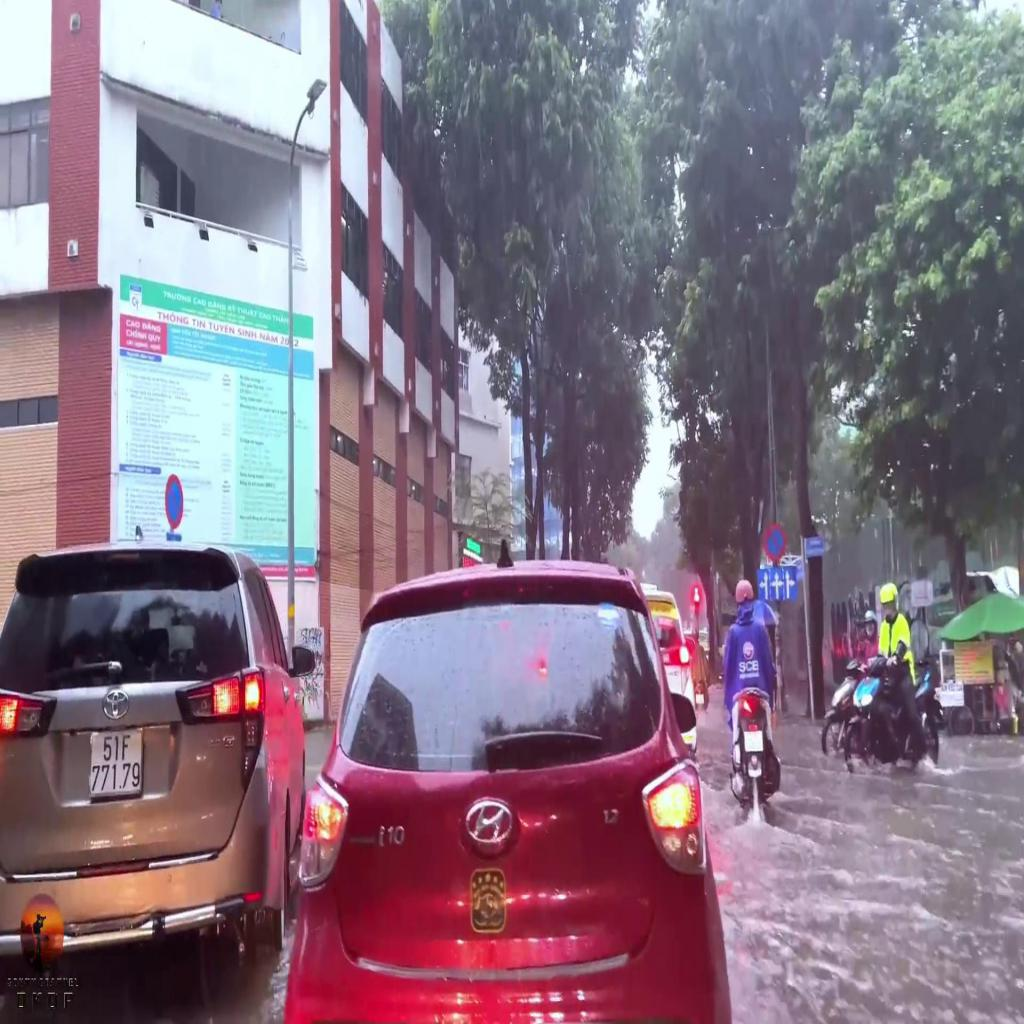cam_do_xe: (164, 475, 184, 529), (763, 524, 786, 564)
huong_di_tren_moi_lan_duong_theo_vach_ke_duong: (758, 567, 797, 600)
